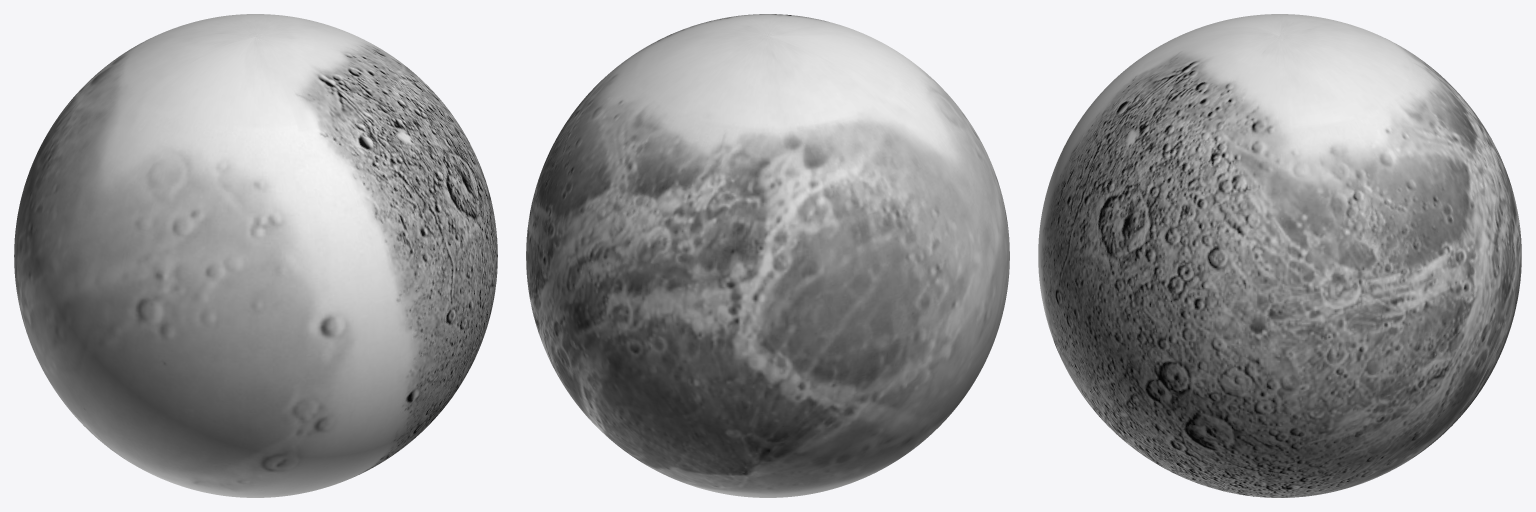
The model's file is dione.glb.
3 views of the same model, side by side, from view 1: azimuth 30°, elevation 25°; view 2: azimuth 150°, elevation 25°; view 3: azimuth 270°, elevation 25° (orthographic).
Visible parts, largest first — view 1: Dione_Asset; view 2: Dione_Asset; view 3: Dione_Asset.
Part boxes in pixels (x1,y1,x2,y2): Dione_Asset: [14, 14, 497, 497]; Dione_Asset: [526, 14, 1009, 497]; Dione_Asset: [1038, 14, 1521, 497].
Bounding box in the file's own units: 0.3994 × 0.4 × 0.3994.
1 material, 1 textured.
